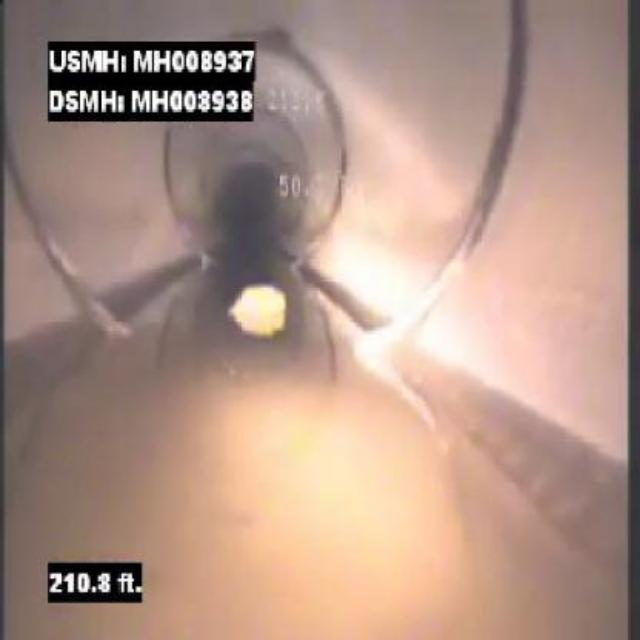Debris: (212, 265, 325, 371)
